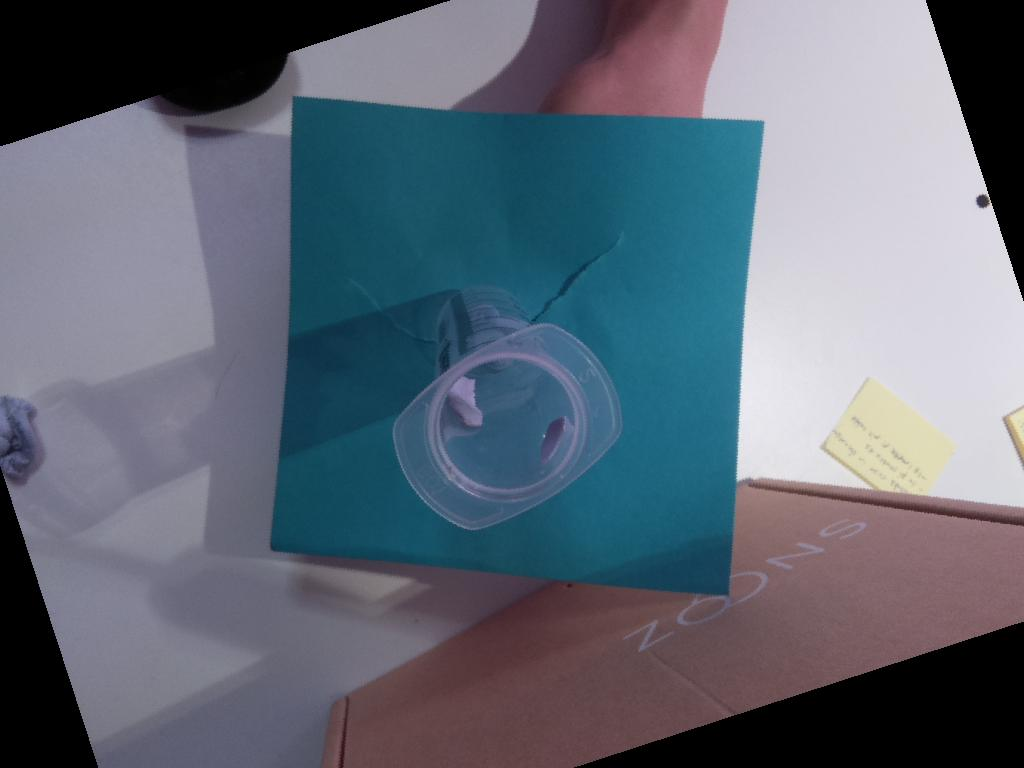dirty: (393, 325, 623, 530)
